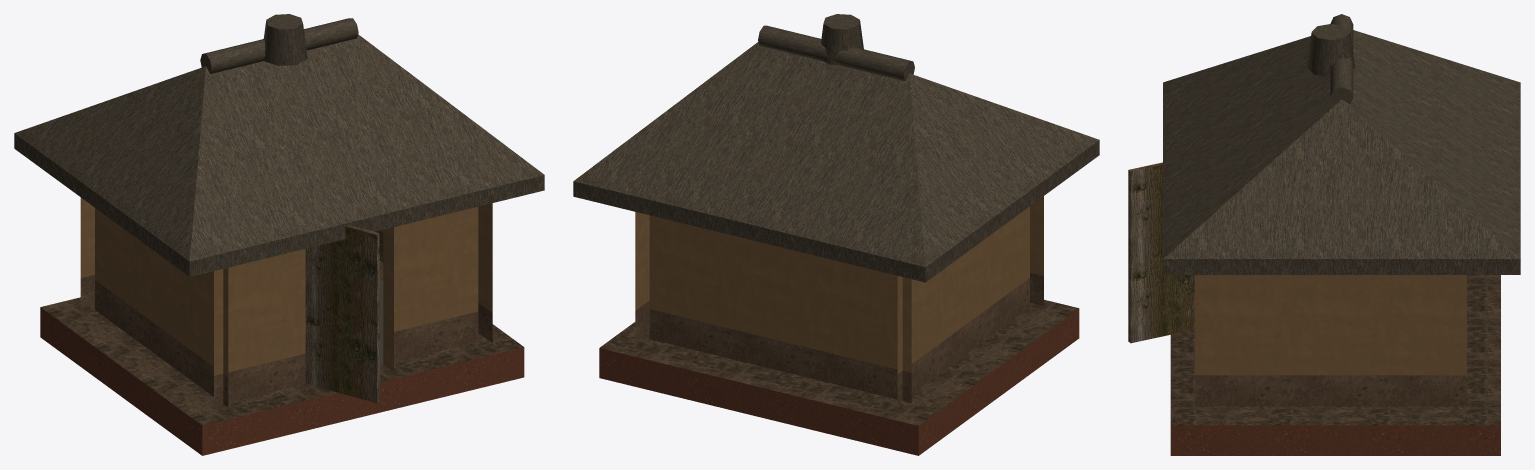
Rendered from hut_kitchen.glb.
3 renders of one model, left to right at view 1: azimuth 30°, elevation 25°; view 2: azimuth 150°, elevation 25°; view 3: azimuth 270°, elevation 25°, orthographic. The views are drawn at different scales.
Parts seen in each view (by area): view 1: hut_kitchen; view 2: hut_kitchen; view 3: hut_kitchen.
Part boxes in pixels (left/top/right/bottom): hut_kitchen: left=14, top=14, right=544, bottom=455; hut_kitchen: left=573, top=14, right=1099, bottom=455; hut_kitchen: left=1128, top=14, right=1520, bottom=455.
Size of the model in its own units: 4.3 by 3.9 by 4.03.
8 materials, 7 textured.
